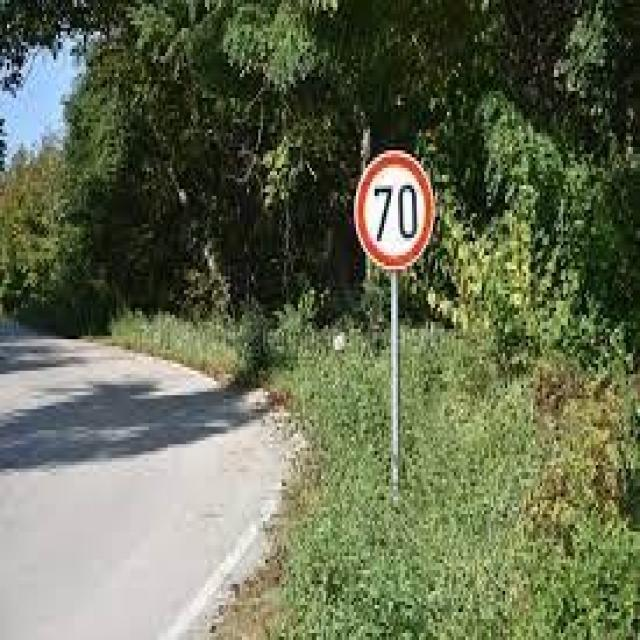speed_limit_70: (345, 143, 443, 272)
